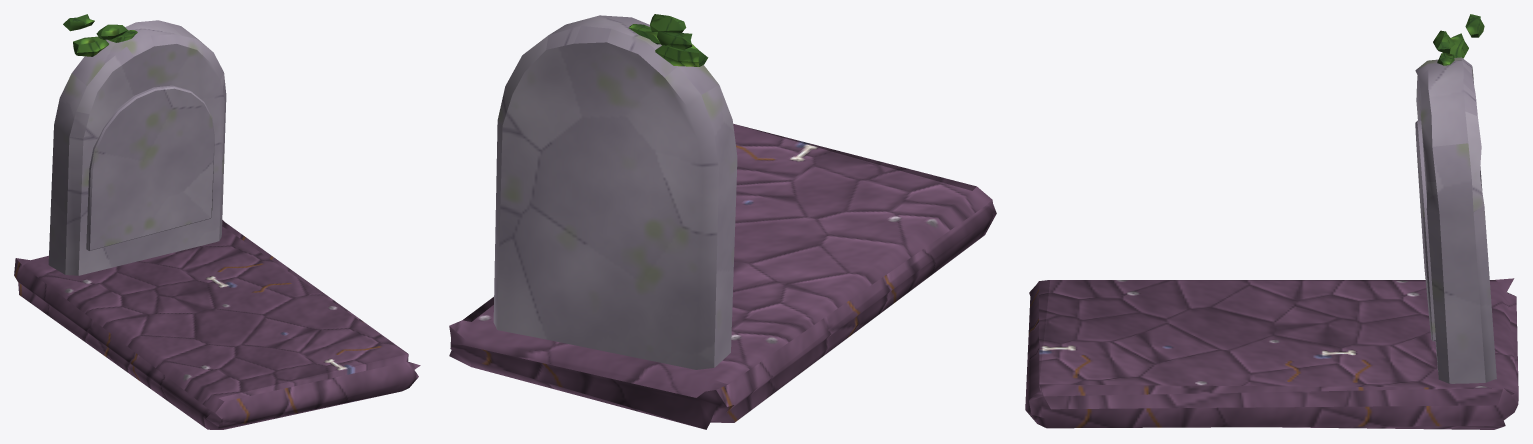
File: gravestone_round.gltf
The picture shows the model from 3 angles, left to right: view 1: azimuth 30°, elevation 25°; view 2: azimuth 150°, elevation 25°; view 3: azimuth 270°, elevation 25°; orthographic projection. The views are drawn at different scales.
Parts seen in each view (by area): view 1: gravestone_round_mesh; view 2: gravestone_round_mesh; view 3: gravestone_round_mesh.
Part boxes in pixels (left/top/right/bottom): gravestone_round_mesh: left=14, top=14, right=420, bottom=429; gravestone_round_mesh: left=449, top=14, right=996, bottom=429; gravestone_round_mesh: left=1025, top=14, right=1518, bottom=429.
Size of what is drawn, in the model's own units: 0.8247 by 1.03 by 1.41.
Materials: 4 (3 with a texture image).
